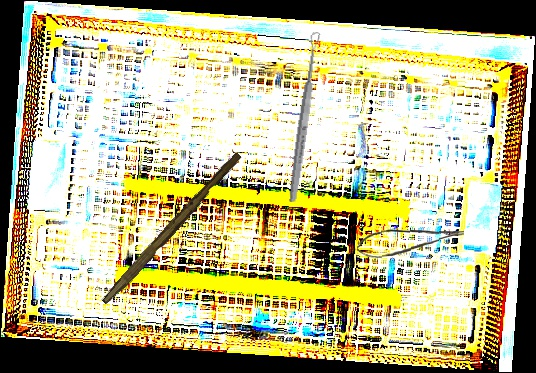Micro Scissor: (356, 226, 465, 260)
Scalpel Handle: (101, 148, 243, 310)
Surgical Spoon: (287, 31, 322, 203)
